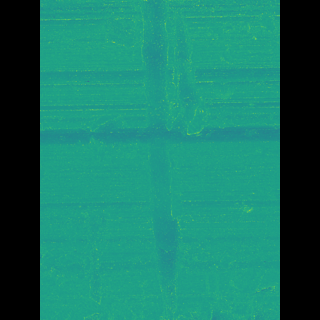Loch: (143, 0, 193, 320), (91, 190, 123, 320), (98, 102, 137, 168)
